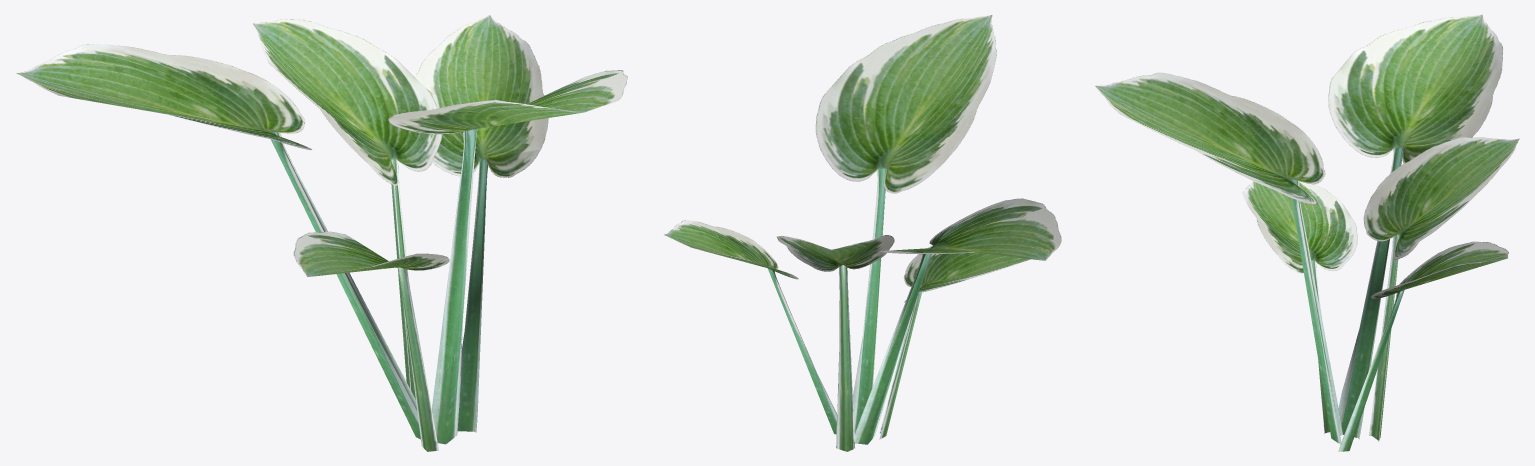
Rendered from plant_small_wg_05Y.fbx.
The picture shows the model from 3 angles, left to right: view 1: azimuth 30°, elevation 25°; view 2: azimuth 150°, elevation 25°; view 3: azimuth 270°, elevation 25°; orthographic projection. The views are drawn at different scales.
Parts seen in each view (by area): view 1: plant_small_wg_05Y; view 2: plant_small_wg_05Y; view 3: plant_small_wg_05Y.
Boxes of the visible parts, <box> form: plant_small_wg_05Y: <box>16,15,627,451</box>; plant_small_wg_05Y: <box>664,15,1061,451</box>; plant_small_wg_05Y: <box>1095,14,1519,451</box>.
Bounding box in the file's own units: 45.95 × 39.25 × 43.63.
